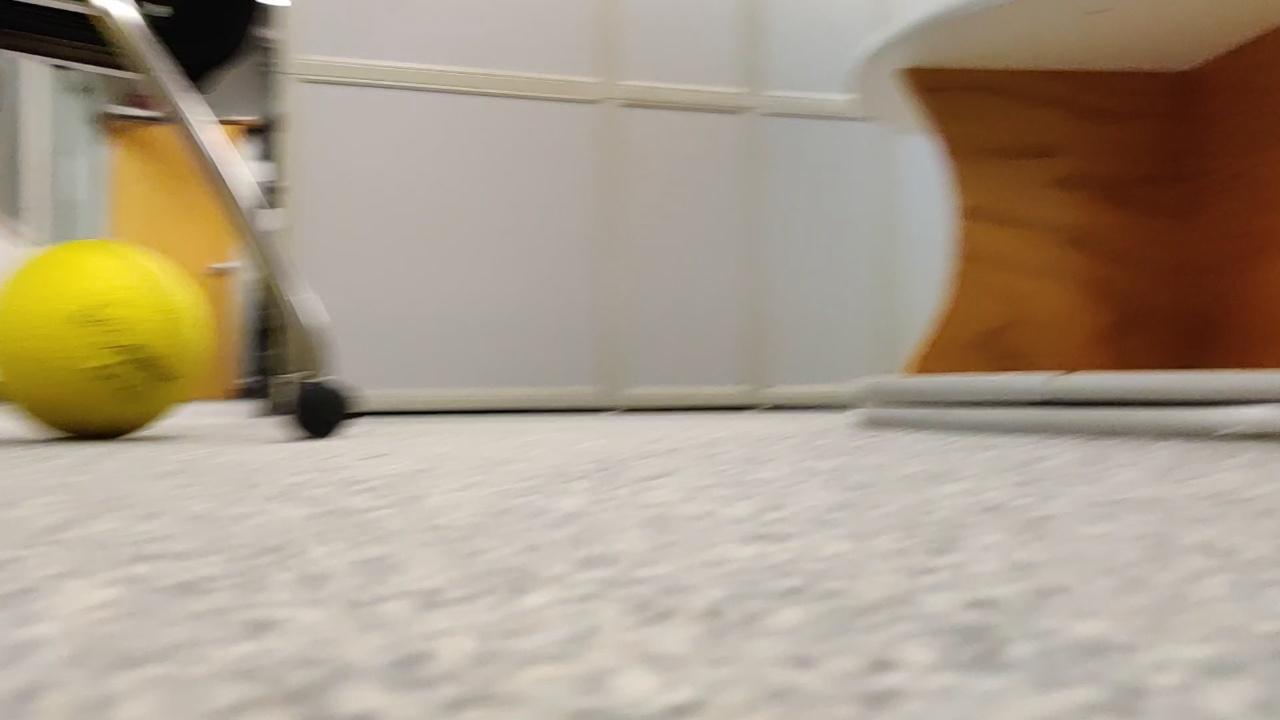Ball: (1, 241, 211, 435)
